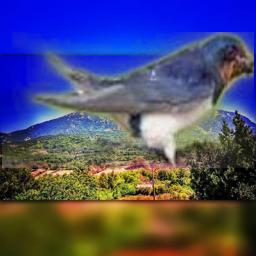Swallow: (2, 32, 254, 168)
